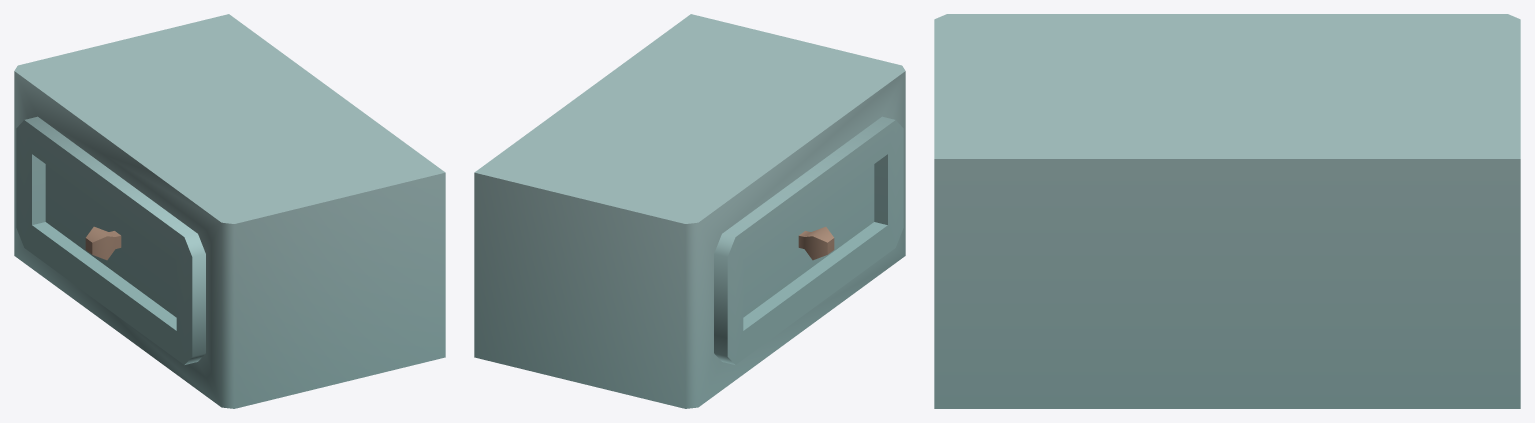
Rendered from sink-hanging-cabinets-classic-no-sink (%wall).glb.
3 renders of one model, left to right at view 1: azimuth 30°, elevation 25°; view 2: azimuth 150°, elevation 25°; view 3: azimuth 270°, elevation 25°, orthographic. The views are drawn at different scales.
Parts seen in each view (by area): view 1: sink-hanging-cabinets-classic-no-sink (%wall); view 2: sink-hanging-cabinets-classic-no-sink (%wall); view 3: sink-hanging-cabinets-classic-no-sink (%wall).
Part boxes in pixels (bbox=[...]): sink-hanging-cabinets-classic-no-sink (%wall): bbox=[14, 14, 445, 408]; sink-hanging-cabinets-classic-no-sink (%wall): bbox=[474, 14, 905, 408]; sink-hanging-cabinets-classic-no-sink (%wall): bbox=[934, 14, 1520, 408].
Size of the model in its own units: 0.4569 by 0.325 by 0.6905.
